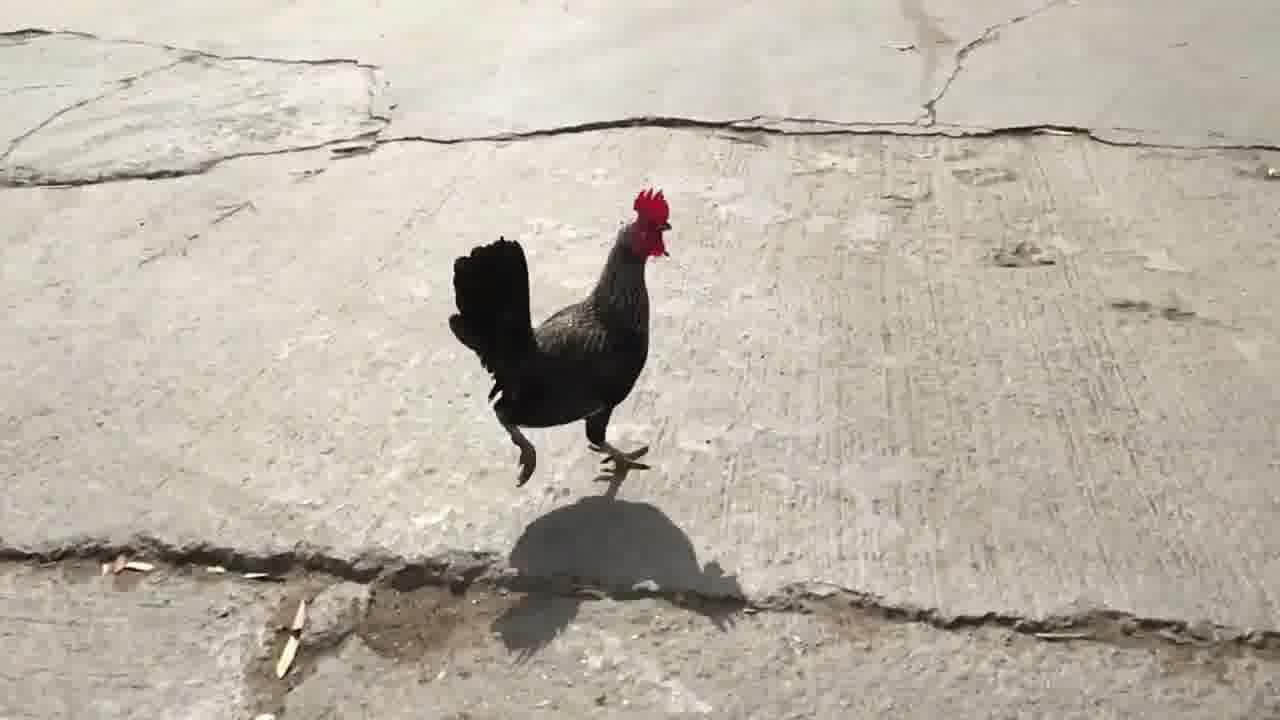Normal: (452, 182, 686, 482)
